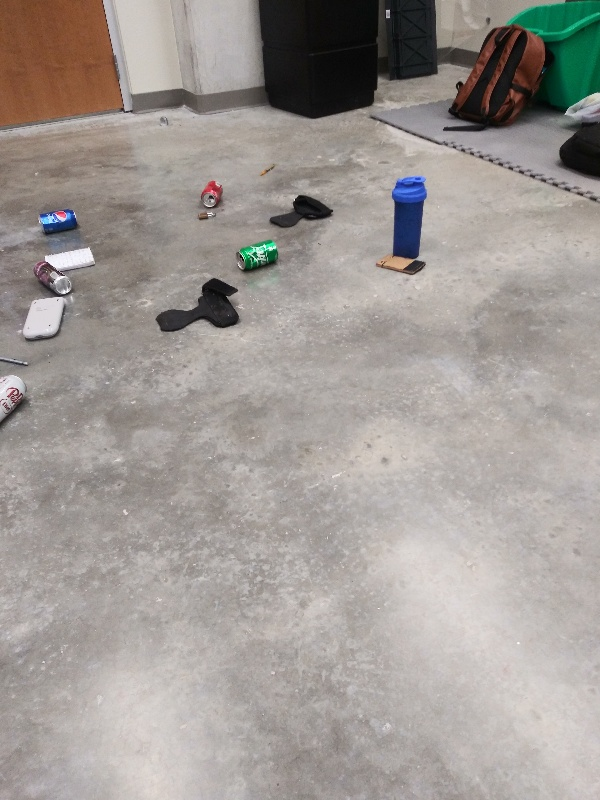can: (232, 238, 284, 275), (32, 258, 75, 299), (35, 203, 84, 237), (1, 371, 29, 422), (198, 175, 224, 213)
